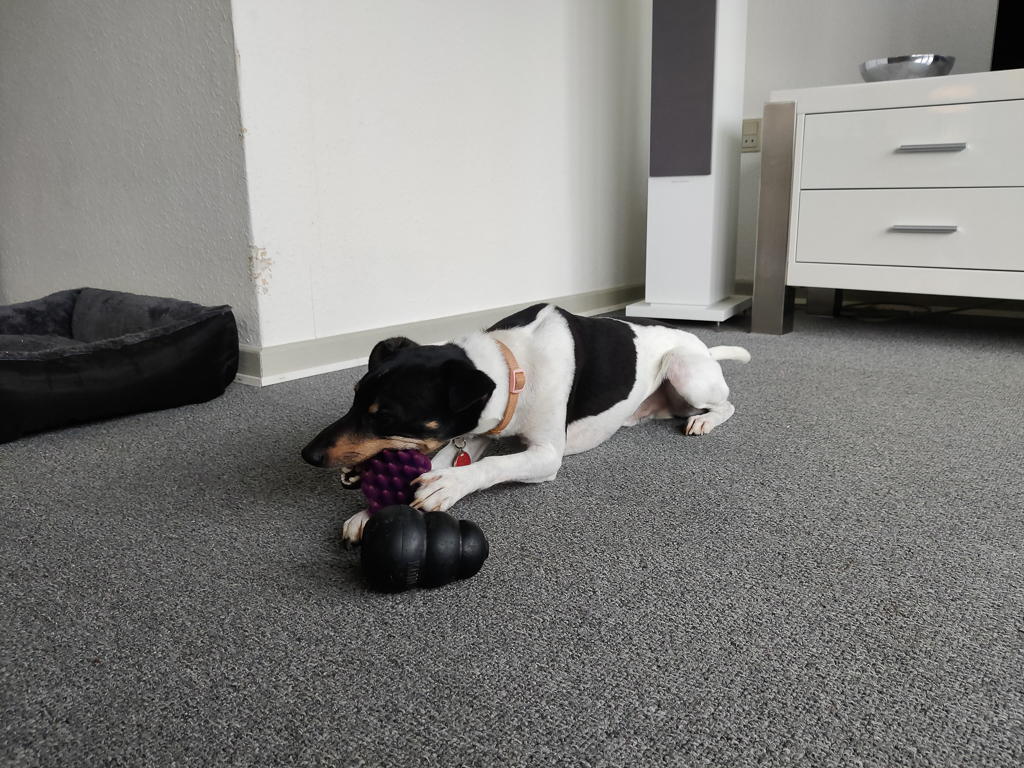Dog: (286, 284, 776, 553)
